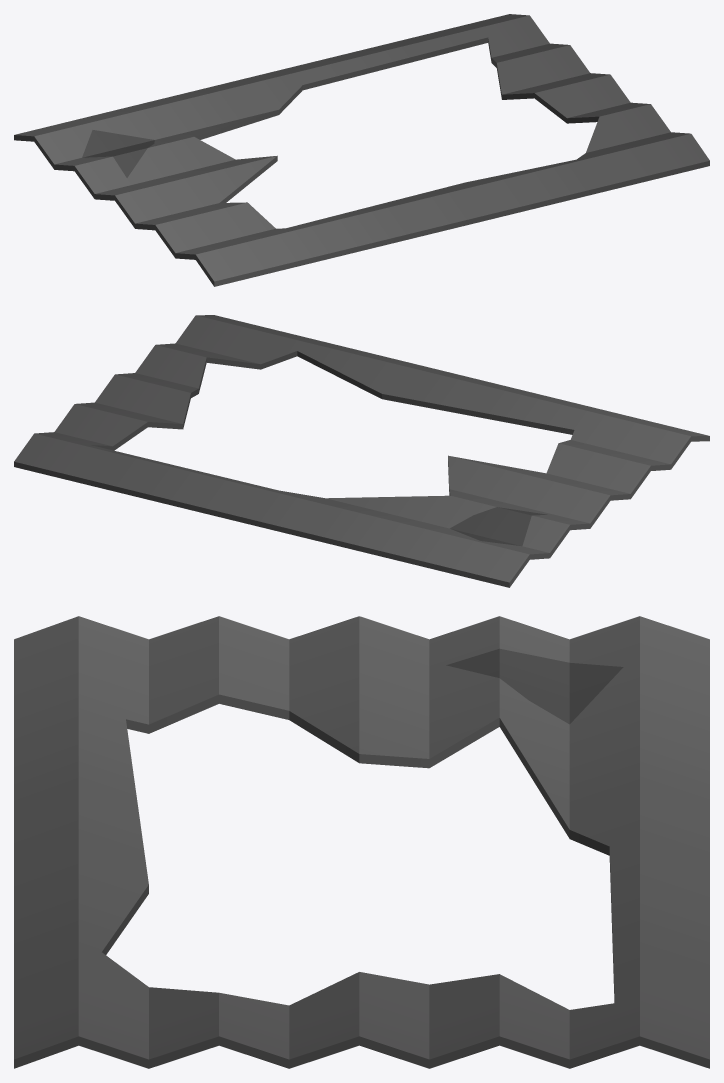
The model's file is SheetMetal_A_3.fbx.
3 renders of one model, top to bottom at view 1: azimuth 30°, elevation 25°; view 2: azimuth 150°, elevation 25°; view 3: azimuth 270°, elevation 25°, orthographic. The views are drawn at different scales.
Visible parts, largest first — view 1: SheetMetal_A_3; view 2: SheetMetal_A_3; view 3: SheetMetal_A_3.
Boxes of the visible parts, box(x1,y1,x2,y2) form: SheetMetal_A_3: box(14, 14, 709, 286); SheetMetal_A_3: box(14, 315, 709, 587); SheetMetal_A_3: box(14, 616, 709, 1068).
Bounding box in the file's own units: 137 × 4.96 × 96.03.
